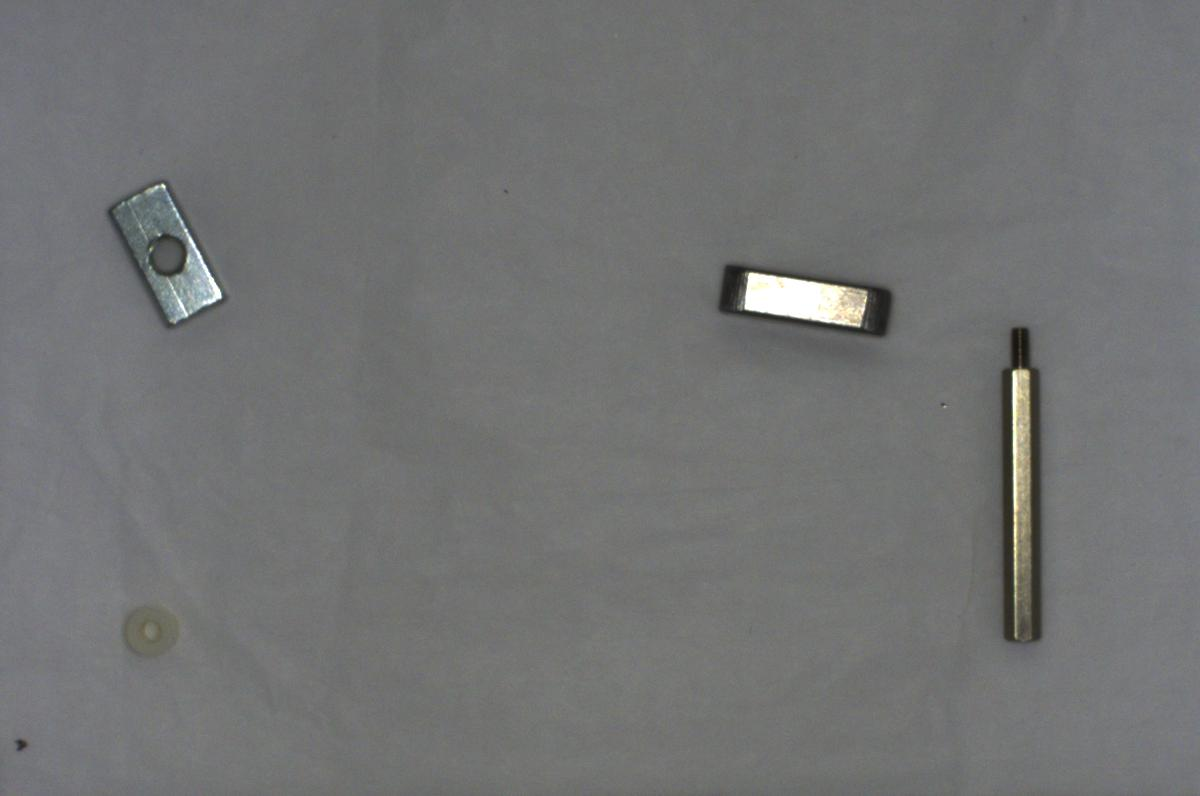Hexagonal steel column: (999, 319, 1053, 643)
Keybar: (711, 262, 900, 341)
Plastic cushion pillar: (125, 594, 180, 655)
Rectangular nut: (110, 173, 228, 334)
